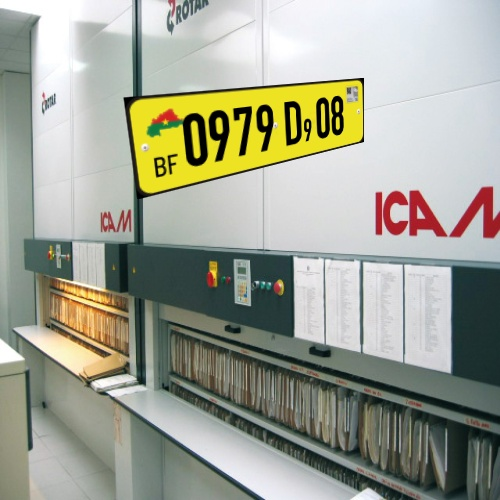plate: (109, 65, 383, 207)
